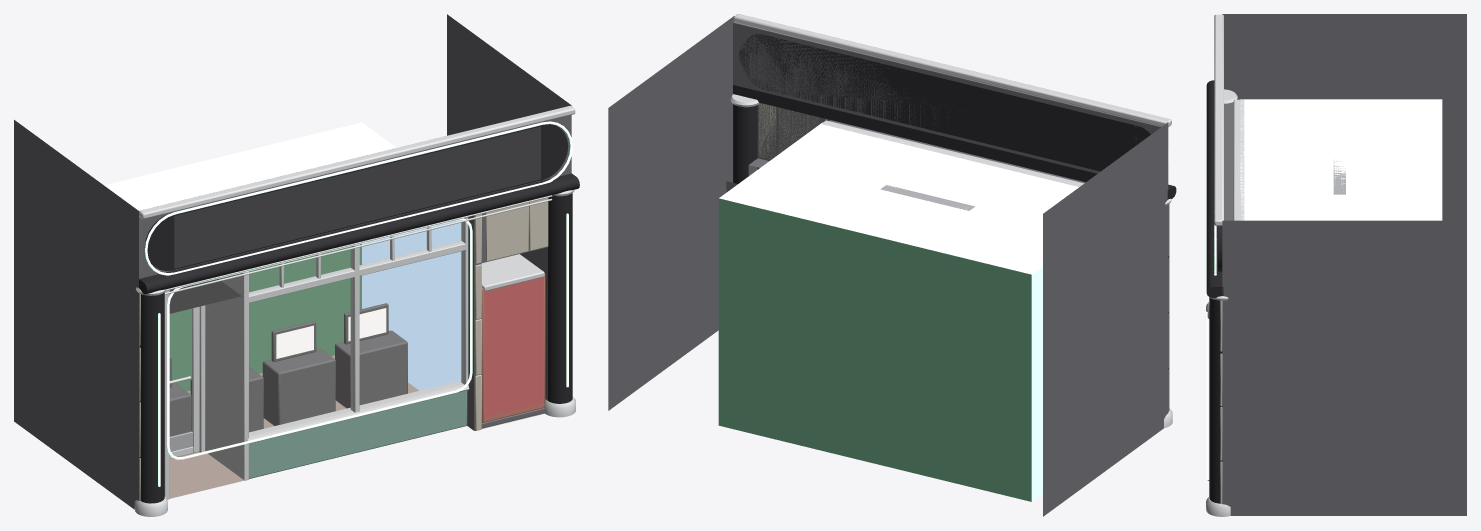
The model's file is retro_shop_lit_6a.glb.
The picture shows the model from 3 angles, left to right: view 1: azimuth 30°, elevation 25°; view 2: azimuth 150°, elevation 25°; view 3: azimuth 270°, elevation 25°; orthographic projection. The views are drawn at different scales.
Parts seen in each view (by area): view 1: retro_shop_lit_6a; view 2: retro_shop_lit_6a; view 3: retro_shop_lit_6a.
Part boxes in pixels (box(x1,y1,x2,y2)): retro_shop_lit_6a: box(14, 14, 579, 516); retro_shop_lit_6a: box(608, 14, 1176, 516); retro_shop_lit_6a: box(1205, 14, 1466, 516).
Bounding box in the file's own units: 6.06 × 4 × 3.21.
